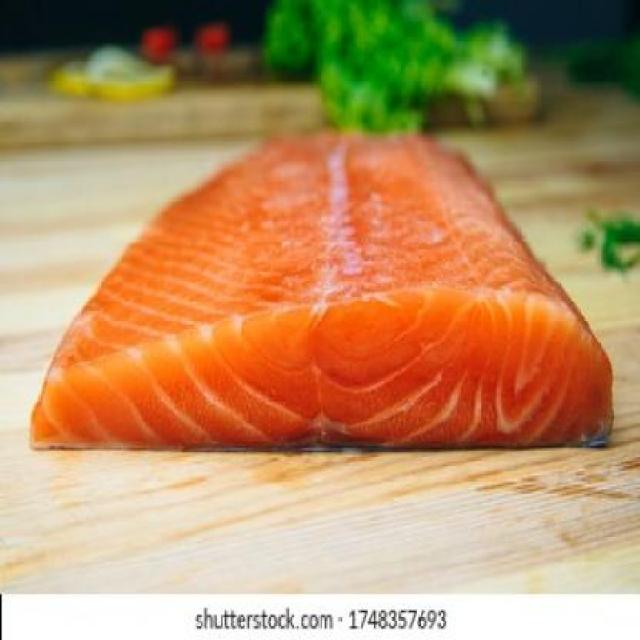salmon: (26, 66, 624, 482)
